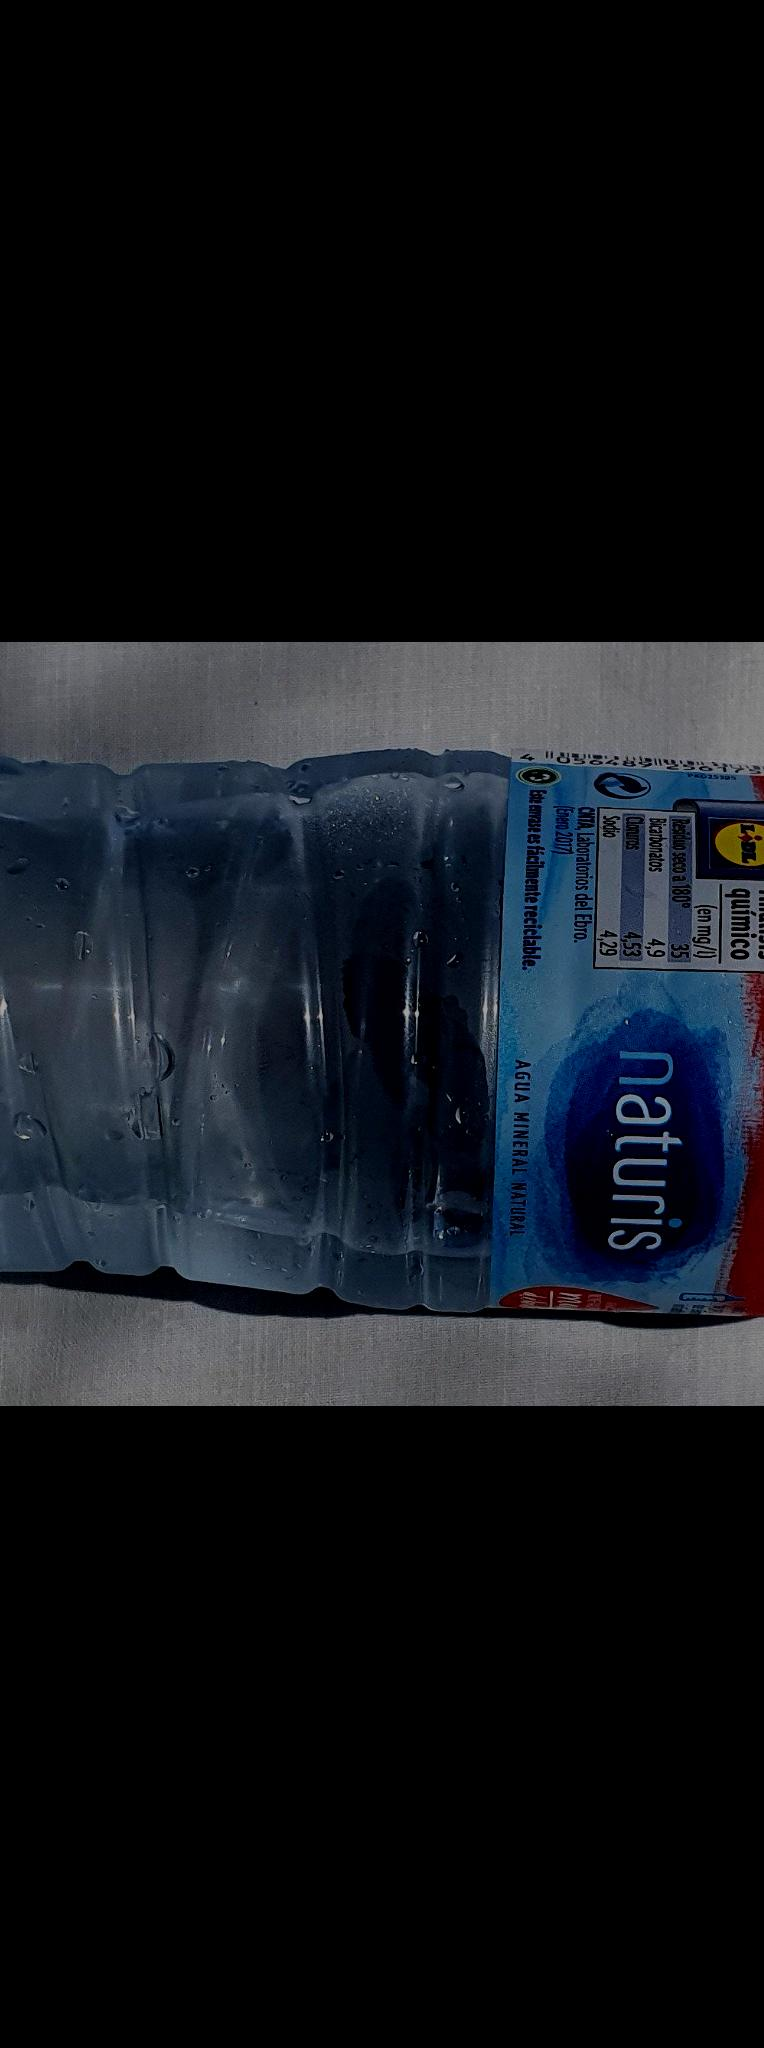bottle: (0, 697, 764, 1317)
